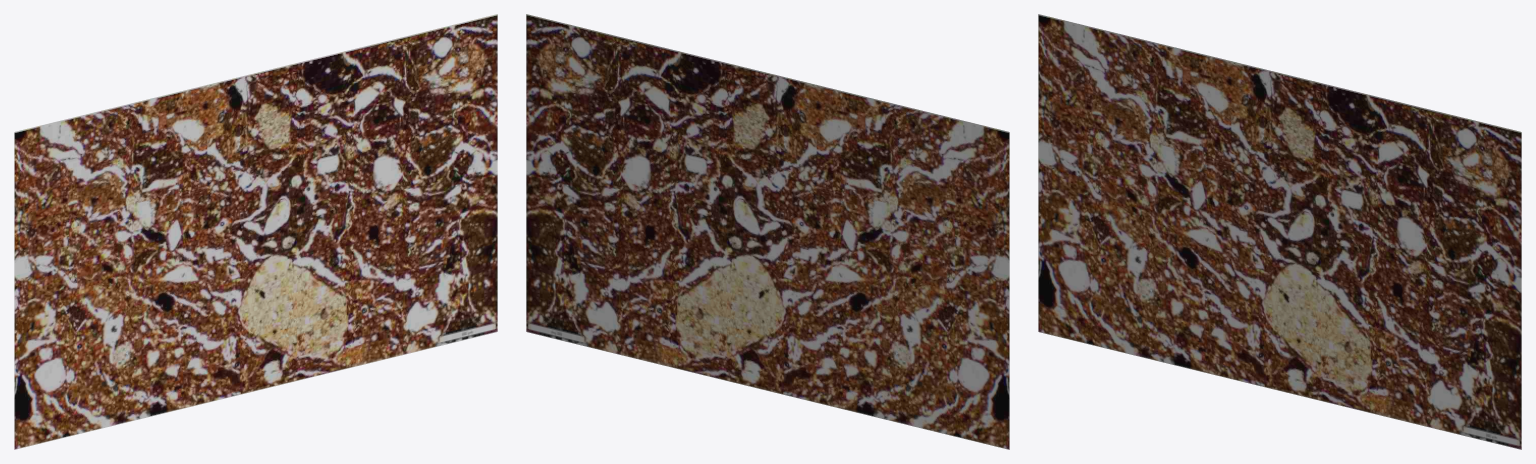
The model's file is wd_2_14_ppl.glb.
The picture shows the model from 3 angles, left to right: view 1: azimuth 30°, elevation 25°; view 2: azimuth 150°, elevation 25°; view 3: azimuth 330°, elevation 25°; orthographic projection.
Visible parts, largest first — view 1: WD_2_14.001; view 2: WD_2_14.001; view 3: WD_2_14.001.
Boxes of the visible parts, box(x1,y1,x2,y2) form: WD_2_14.001: box(14, 14, 497, 449); WD_2_14.001: box(526, 14, 1009, 449); WD_2_14.001: box(1038, 14, 1521, 449).
Size of the model in its own units: 0.4638 by 0.2914 by 1.27e-08.
Materials: 1 (1 with a texture image).
